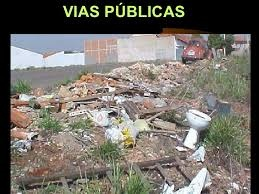rubble: (14, 81, 149, 149)
